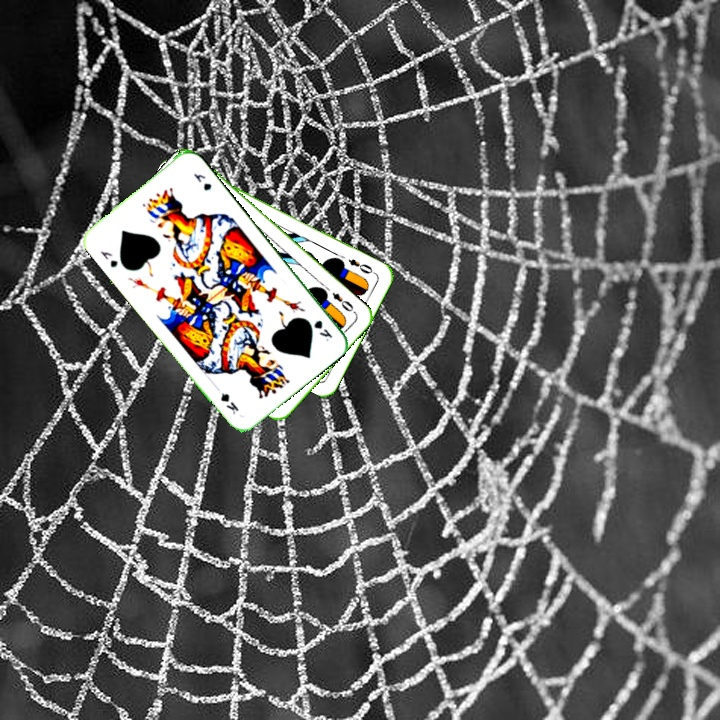EO: (344, 255, 379, 277), (328, 288, 356, 314)
GK: (310, 316, 335, 344), (96, 247, 120, 270)
